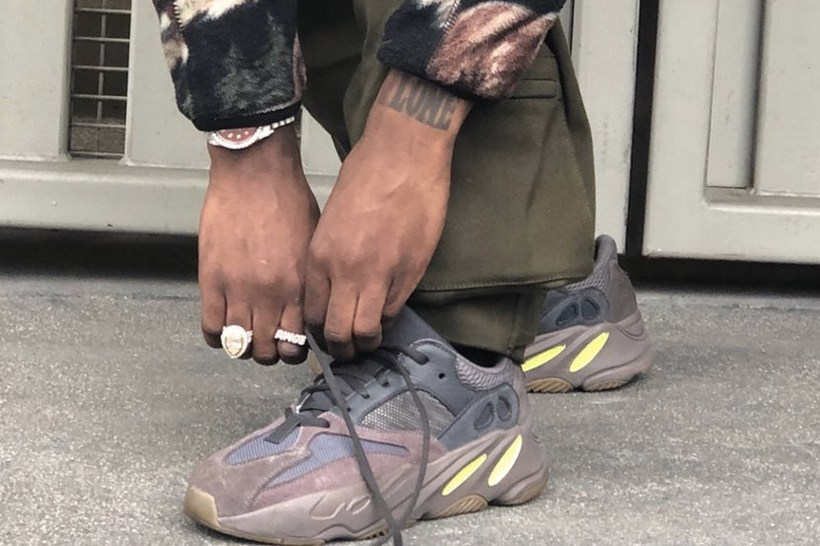adidas Yeezy 700 Mauve: (182, 290, 551, 546), (497, 218, 662, 393)
